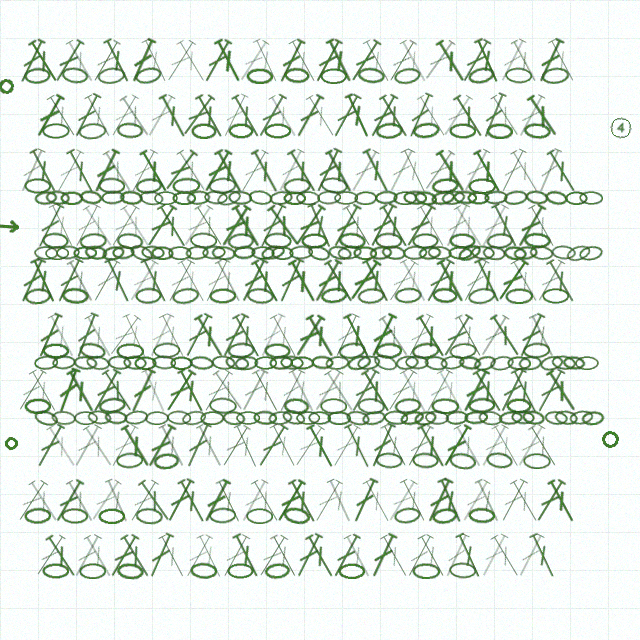chain: (134, 65, 163, 86), (467, 65, 496, 86), (282, 505, 311, 526), (467, 286, 497, 306), (128, 242, 155, 264), (456, 242, 483, 264), (393, 66, 422, 86), (171, 286, 200, 306), (78, 341, 107, 361), (448, 451, 477, 471), (372, 352, 399, 373), (431, 506, 459, 526), (97, 66, 126, 85), (541, 66, 570, 85), (411, 341, 440, 360), (485, 451, 514, 470), (393, 506, 422, 525), (565, 243, 592, 263), (61, 66, 89, 85), (357, 66, 385, 85), (412, 121, 440, 140), (320, 176, 348, 195), (338, 231, 366, 250), (320, 286, 348, 305), (338, 341, 366, 360), (98, 396, 126, 415), (78, 122, 107, 140), (216, 188, 242, 208), (306, 243, 332, 263), (472, 353, 498, 373), (33, 408, 59, 428), (523, 122, 551, 140), (135, 177, 163, 195), (283, 177, 311, 195), (431, 177, 459, 195), (79, 232, 107, 250), (116, 232, 144, 250), (227, 232, 255, 250), (486, 232, 514, 250), (24, 287, 52, 305), (246, 287, 274, 305), (357, 287, 385, 305), (449, 342, 477, 360), (357, 397, 385, 415), (394, 397, 422, 415), (135, 507, 163, 525), (116, 562, 144, 580), (260, 243, 286, 262), (346, 353, 372, 372), (208, 177, 237, 194), (283, 397, 310, 415), (153, 452, 180, 470), (264, 562, 291, 580), (116, 122, 144, 139), (375, 122, 403, 139), (172, 177, 200, 194), (264, 232, 292, 249), (523, 232, 551, 249), (61, 287, 89, 304), (394, 287, 422, 304), (227, 342, 255, 359), (209, 397, 237, 414), (375, 452, 403, 469), (281, 408, 306, 427), (430, 189, 456, 207), (327, 244, 353, 262), (578, 244, 604, 262), (85, 354, 111, 372), (489, 354, 515, 372), (181, 409, 207, 427), (345, 409, 371, 427), (361, 409, 387, 427), (399, 409, 425, 427), (24, 67, 51, 84), (505, 67, 532, 84), (98, 177, 125, 194), (42, 232, 69, 249), (190, 232, 217, 249), (375, 232, 402, 249), (135, 287, 162, 304), (153, 342, 180, 359), (375, 342, 402, 359), (523, 342, 550, 359), (468, 397, 495, 414), (116, 452, 143, 469), (412, 452, 439, 469), (24, 507, 51, 524), (209, 507, 236, 524), (468, 507, 495, 524), (190, 562, 217, 579), (449, 562, 476, 579), (413, 189, 438, 207), (544, 189, 569, 207), (101, 244, 126, 262), (539, 354, 564, 372), (413, 409, 438, 427), (42, 123, 70, 139), (468, 178, 496, 194), (505, 288, 533, 304), (116, 343, 144, 359), (431, 398, 459, 414), (523, 453, 551, 469), (412, 563, 440, 579), (284, 67, 310, 84), (432, 287, 458, 304), (224, 354, 250, 371), (246, 68, 273, 84), (320, 68, 347, 84), (264, 123, 291, 139), (449, 123, 476, 139), (486, 123, 513, 139), (24, 178, 51, 194), (301, 233, 328, 249), (412, 233, 439, 249), (449, 233, 476, 249), (209, 288, 236, 304), (542, 288, 569, 304), (42, 343, 69, 359), (264, 343, 291, 359), (24, 398, 51, 414), (320, 398, 347, 414), (61, 508, 88, 524), (98, 508, 125, 524), (246, 508, 273, 524), (42, 563, 69, 579), (79, 563, 106, 579), (227, 563, 254, 579), (338, 563, 365, 579), (248, 189, 273, 206), (441, 189, 466, 206), (503, 189, 528, 206), (337, 244, 362, 261), (381, 244, 406, 261), (356, 354, 381, 371), (440, 354, 465, 371), (551, 354, 576, 371), (87, 409, 112, 426), (124, 409, 149, 426), (521, 409, 546, 426), (569, 409, 594, 426), (191, 123, 217, 139), (228, 123, 254, 139), (506, 398, 532, 414), (79, 189, 103, 206), (525, 189, 549, 206), (84, 244, 108, 261), (395, 354, 419, 371), (554, 409, 578, 426), (139, 190, 164, 206), (211, 245, 236, 261), (427, 245, 452, 261), (513, 245, 538, 261), (529, 245, 554, 261), (73, 355, 98, 371), (189, 355, 214, 371), (234, 355, 259, 371), (325, 355, 350, 371), (51, 410, 76, 426), (268, 410, 293, 426), (478, 410, 503, 426), (498, 410, 523, 426), (34, 190, 58, 206), (119, 190, 143, 206), (269, 190, 293, 206), (369, 245, 393, 261), (418, 245, 442, 261), (482, 245, 506, 261), (503, 245, 527, 261), (424, 355, 448, 371), (458, 355, 482, 371), (518, 355, 542, 371), (562, 355, 586, 371), (222, 410, 246, 426), (544, 410, 568, 426), (581, 410, 605, 426), (45, 190, 70, 205), (186, 190, 211, 205), (551, 245, 576, 260), (107, 355, 132, 370), (211, 355, 236, 370), (101, 190, 125, 205), (204, 190, 228, 205), (228, 190, 252, 205), (317, 190, 341, 205), (403, 190, 427, 205), (453, 190, 477, 205), (484, 190, 508, 205), (56, 245, 80, 260), (141, 245, 165, 260), (185, 245, 209, 260), (202, 245, 226, 260), (289, 245, 313, 260), (403, 245, 427, 260), (471, 245, 495, 260), (34, 355, 58, 370), (52, 355, 76, 370), (123, 355, 147, 370), (152, 355, 176, 370), (269, 355, 293, 370), (280, 355, 304, 370), (405, 355, 429, 370), (104, 410, 128, 425), (167, 410, 191, 425), (253, 410, 277, 425), (384, 410, 408, 425), (425, 410, 449, 425), (445, 410, 469, 425), (464, 410, 488, 425), (511, 410, 535, 425), (375, 190, 398, 205), (112, 245, 135, 260), (233, 245, 256, 260), (311, 355, 334, 370), (154, 191, 178, 205), (172, 191, 196, 205), (296, 191, 320, 205), (334, 191, 358, 205), (393, 191, 417, 205), (579, 191, 603, 205), (34, 246, 58, 260), (45, 246, 69, 260), (73, 246, 97, 260), (168, 246, 192, 260), (251, 246, 275, 260), (353, 246, 377, 260), (448, 246, 472, 260), (290, 356, 314, 370), (507, 356, 531, 370), (575, 356, 599, 370), (74, 411, 98, 425), (145, 411, 169, 425), (200, 411, 224, 425), (236, 411, 260, 425), (296, 411, 320, 425), (327, 411, 351, 425), (60, 191, 83, 205), (283, 191, 306, 205), (354, 191, 377, 205), (467, 191, 490, 205), (565, 191, 588, 205), (151, 246, 174, 260), (271, 246, 294, 260), (134, 356, 157, 370), (170, 356, 193, 370), (254, 356, 277, 370), (308, 411, 331, 425)
double: (419, 37, 459, 84), (178, 92, 218, 139), (160, 147, 200, 194), (264, 202, 304, 249), (104, 312, 144, 359), (135, 477, 175, 524), (234, 37, 273, 85), (116, 92, 155, 140), (79, 202, 118, 250), (178, 202, 217, 250), (375, 312, 414, 360), (79, 422, 118, 470), (289, 422, 328, 470), (12, 477, 51, 525), (86, 476, 125, 524), (42, 532, 81, 580), (419, 147, 458, 194), (345, 257, 384, 304), (493, 257, 532, 304), (209, 367, 248, 414), (25, 37, 63, 85), (161, 37, 199, 85), (346, 37, 384, 85), (432, 37, 470, 85), (43, 92, 81, 140), (302, 92, 340, 140), (413, 92, 451, 140), (438, 92, 476, 140), (450, 92, 488, 140), (99, 147, 137, 195), (432, 147, 470, 195), (543, 147, 581, 195), (105, 202, 143, 250), (117, 202, 155, 250), (142, 202, 180, 250), (216, 202, 254, 250), (401, 202, 439, 250), (450, 202, 488, 250), (124, 257, 162, 305), (383, 257, 421, 305), (290, 312, 328, 360), (438, 312, 476, 360), (475, 312, 513, 360), (161, 367, 199, 415), (198, 367, 236, 415), (309, 367, 347, 415), (321, 367, 359, 415), (469, 367, 507, 415), (43, 422, 81, 470), (117, 422, 155, 470), (216, 422, 254, 470), (253, 422, 291, 470), (524, 422, 562, 470), (25, 477, 63, 525), (124, 477, 162, 525), (383, 477, 421, 525), (531, 477, 569, 525), (117, 532, 155, 580), (253, 532, 291, 580), (524, 92, 562, 139), (173, 147, 211, 194), (290, 202, 328, 249), (99, 367, 137, 414), (543, 367, 581, 414), (31, 532, 69, 579), (50, 37, 87, 85), (62, 37, 99, 85), (87, 37, 124, 85), (173, 37, 210, 85), (383, 37, 420, 85), (457, 37, 494, 85), (31, 92, 68, 140), (142, 92, 179, 140), (228, 92, 265, 140), (253, 92, 290, 140), (265, 92, 302, 140), (376, 92, 413, 140), (136, 147, 173, 195), (235, 147, 272, 195), (284, 147, 321, 195), (346, 147, 383, 195), (154, 202, 191, 250), (228, 202, 265, 250), (339, 202, 376, 250), (376, 202, 413, 250), (413, 202, 450, 250), (512, 202, 549, 250), (321, 257, 358, 305), (543, 257, 580, 305), (191, 312, 228, 360), (302, 312, 339, 360), (413, 312, 450, 360), (25, 367, 62, 415), (346, 367, 383, 415), (358, 367, 395, 415), (105, 422, 142, 470), (142, 422, 179, 470), (327, 422, 364, 470), (438, 422, 475, 470), (450, 422, 487, 470), (512, 422, 549, 470), (50, 477, 87, 525), (62, 477, 99, 525), (247, 477, 284, 525), (272, 477, 309, 525), (309, 477, 346, 525), (457, 477, 494, 525), (506, 477, 543, 525), (80, 532, 117, 580), (105, 532, 142, 580), (302, 532, 339, 580), (376, 532, 413, 580), (487, 532, 524, 580), (544, 36, 580, 85), (26, 146, 62, 195), (458, 146, 494, 195), (396, 256, 432, 305), (44, 311, 80, 360), (236, 366, 272, 415), (192, 421, 228, 470), (162, 476, 198, 525), (495, 476, 531, 525), (476, 531, 512, 580), (487, 92, 524, 139), (191, 202, 228, 249), (487, 312, 524, 359), (13, 367, 50, 414), (383, 367, 420, 414), (199, 37, 235, 85), (285, 37, 321, 85), (310, 37, 346, 85), (359, 37, 395, 85), (396, 37, 432, 85), (106, 92, 142, 140), (155, 92, 191, 140), (192, 92, 228, 140), (291, 92, 327, 140), (328, 92, 364, 140), (365, 92, 401, 140), (513, 92, 549, 140), (51, 147, 87, 195), (63, 147, 99, 195), (125, 147, 161, 195), (199, 147, 235, 195), (211, 147, 247, 195), (470, 147, 506, 195), (507, 147, 543, 195), (328, 202, 364, 250), (476, 202, 512, 250), (63, 257, 99, 305), (88, 257, 124, 305), (162, 257, 198, 305), (174, 257, 210, 305), (248, 257, 284, 305), (285, 257, 321, 305), (421, 257, 457, 305), (433, 257, 469, 305), (507, 257, 543, 305), (532, 257, 568, 305), (81, 312, 117, 360), (229, 312, 265, 360), (266, 312, 302, 360), (451, 312, 487, 360), (63, 367, 99, 415), (88, 367, 124, 415), (248, 367, 284, 415), (396, 367, 432, 415), (433, 367, 469, 415), (532, 367, 568, 415), (32, 422, 68, 470), (69, 422, 105, 470), (303, 422, 339, 470), (414, 422, 450, 470), (476, 422, 512, 470), (488, 422, 524, 470), (174, 477, 210, 525), (236, 477, 272, 525), (285, 477, 321, 525), (359, 477, 395, 525), (69, 532, 105, 580), (180, 532, 216, 580), (217, 532, 253, 580), (266, 532, 302, 580), (328, 532, 364, 580), (340, 532, 376, 580), (414, 532, 450, 580), (100, 36, 135, 85), (211, 36, 246, 85), (322, 36, 357, 85), (495, 36, 530, 85), (69, 91, 104, 140), (217, 91, 252, 140), (273, 146, 308, 195), (359, 146, 394, 195), (384, 146, 419, 195), (495, 146, 530, 195), (69, 201, 104, 250), (365, 201, 400, 250), (488, 201, 523, 250), (137, 256, 172, 305), (199, 256, 234, 305), (236, 256, 271, 305), (359, 256, 394, 305), (155, 311, 190, 360), (180, 311, 215, 360), (217, 311, 252, 360), (340, 311, 375, 360), (402, 311, 437, 360), (525, 311, 560, 360), (174, 366, 209, 415), (285, 366, 320, 415), (495, 366, 530, 415), (155, 421, 190, 470), (266, 421, 301, 470), (377, 421, 412, 470), (396, 476, 431, 525), (229, 531, 264, 580), (291, 531, 326, 580), (513, 531, 548, 580), (507, 37, 542, 85), (81, 92, 116, 140), (248, 147, 283, 195), (322, 147, 357, 195), (525, 202, 560, 250), (211, 257, 246, 305), (310, 257, 345, 305), (458, 257, 493, 305), (421, 367, 456, 415), (458, 367, 493, 415), (402, 422, 437, 470), (199, 477, 234, 525), (544, 477, 579, 525), (155, 532, 190, 580), (402, 532, 437, 580), (138, 36, 172, 85), (249, 36, 283, 85), (533, 36, 567, 85), (341, 91, 375, 140), (15, 146, 49, 195), (311, 146, 345, 195), (397, 146, 431, 195), (45, 201, 79, 250), (440, 201, 474, 250), (15, 256, 49, 305), (27, 256, 61, 305), (52, 256, 86, 305), (101, 256, 135, 305), (471, 256, 505, 305), (144, 311, 178, 360), (255, 311, 289, 360), (329, 311, 363, 360), (366, 311, 400, 360), (514, 311, 548, 360), (181, 421, 215, 470), (323, 476, 357, 525), (422, 476, 456, 525), (471, 476, 505, 525), (366, 531, 400, 580), (452, 531, 486, 580), (526, 531, 560, 580), (274, 37, 308, 85), (89, 147, 123, 195), (33, 202, 67, 250), (255, 202, 289, 250), (274, 367, 308, 415), (508, 367, 542, 415), (341, 422, 375, 470), (212, 477, 246, 525), (193, 532, 227, 580), (126, 36, 159, 85), (471, 36, 504, 85), (533, 146, 566, 195), (304, 201, 337, 250), (274, 256, 307, 305), (33, 311, 66, 360), (119, 311, 152, 360), (138, 366, 171, 415), (366, 421, 399, 470), (101, 476, 134, 525), (348, 476, 381, 525), (434, 476, 467, 525), (144, 531, 177, 580), (440, 531, 473, 580), (15, 37, 48, 85), (126, 367, 159, 415), (230, 422, 263, 470), (404, 91, 436, 140), (478, 91, 510, 140), (71, 311, 102, 360), (53, 366, 84, 415)
noise: (608, 115, 633, 140), (599, 428, 621, 450), (0, 75, 17, 97), (0, 219, 21, 233), (4, 436, 19, 451)
